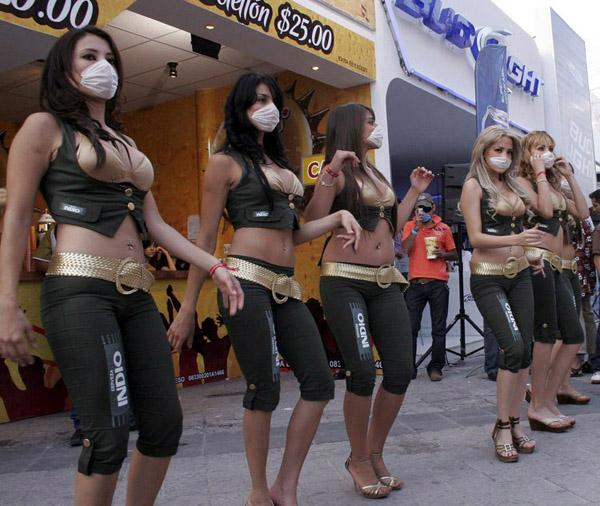OK: (71, 43, 126, 98), (242, 91, 283, 132), (347, 114, 386, 153), (488, 143, 514, 176), (535, 142, 558, 170)
